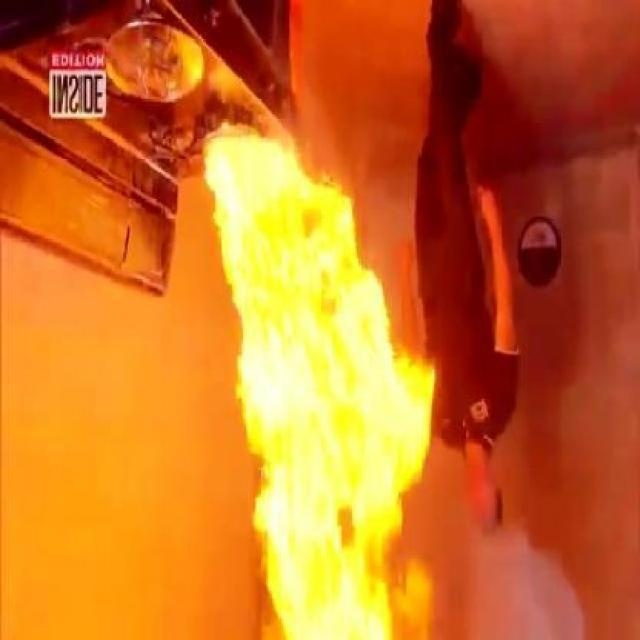fire: (162, 116, 466, 636)
